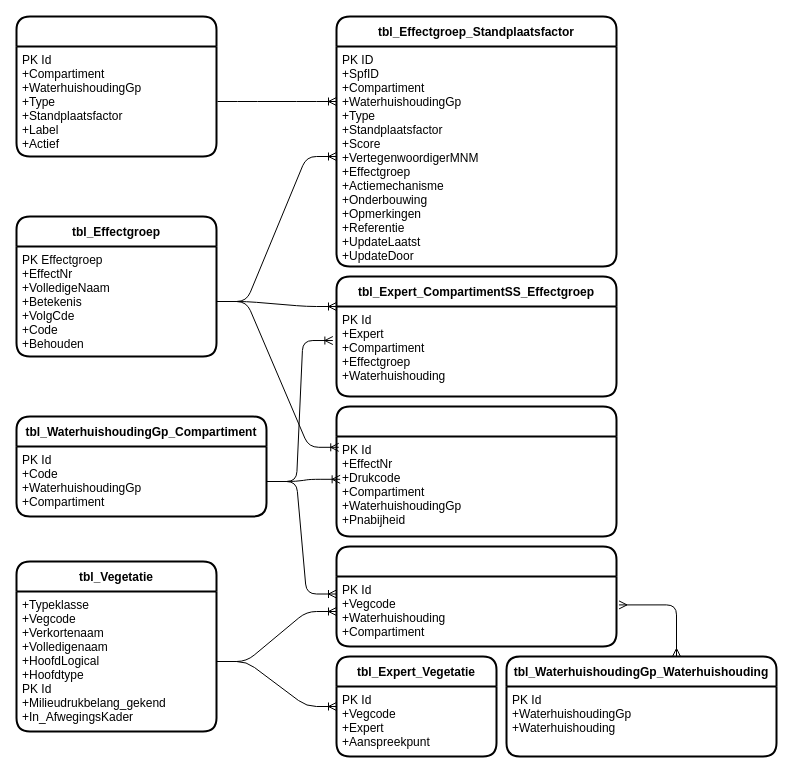
This 793x773 diagram has some shape labels left out. Each missing label, with the box of its shape:
tbl_Pnabijheid: (335, 405, 617, 537)
tbl_Standplaatsfactor_Label: (15, 15, 217, 157)
tbl_Vegetatie_Waterhuishouding_Compartiment: (335, 545, 617, 647)
